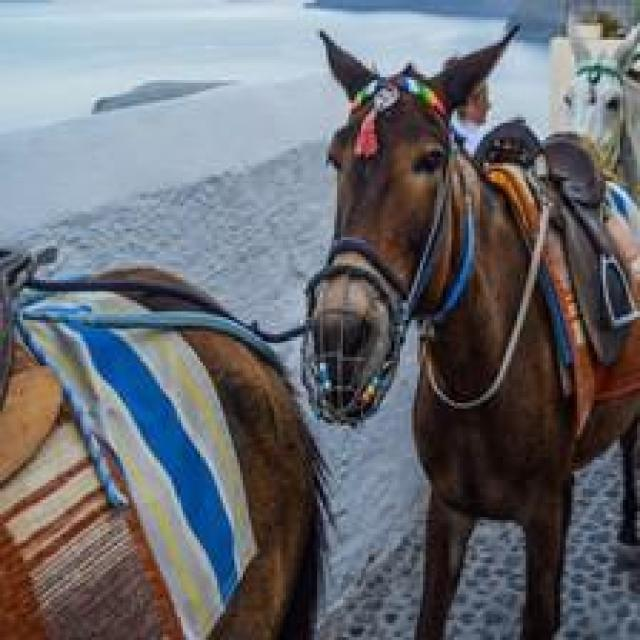Donkey: (306, 20, 637, 637), (0, 240, 337, 637), (560, 3, 637, 551)
